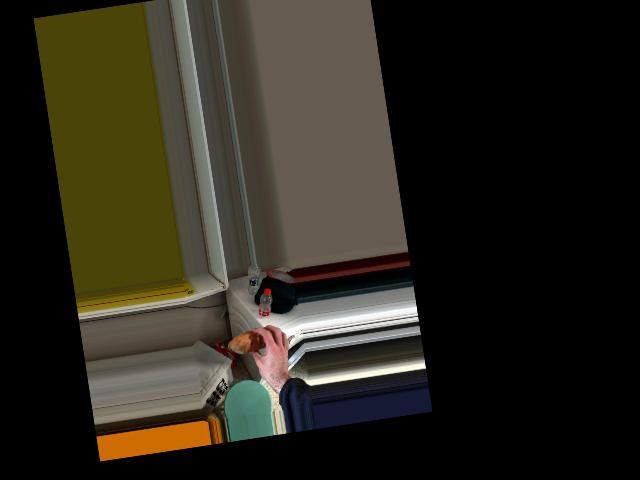sweet_potato: (237, 329, 273, 358)
